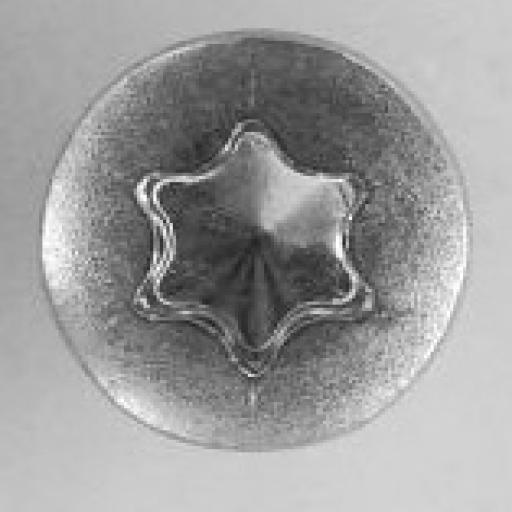Torx: (35, 28, 477, 454)
